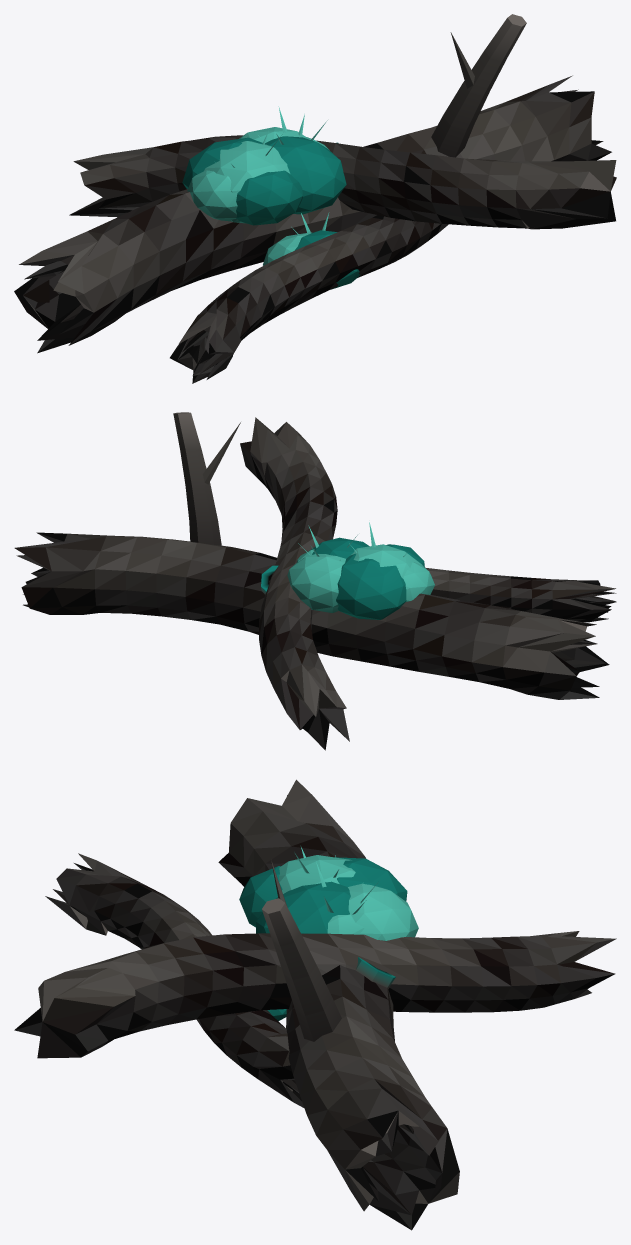
Rendered from pohon_tumbang_logjam_swamp_948032 (2).glb.
The picture shows the model from 3 angles, top to bottom: view 1: azimuth 30°, elevation 25°; view 2: azimuth 150°, elevation 25°; view 3: azimuth 270°, elevation 25°; orthographic projection. The views are drawn at different scales.
Visible parts, largest first — view 1: Tumpukan_Kayu_Hanyut; view 2: Tumpukan_Kayu_Hanyut; view 3: Tumpukan_Kayu_Hanyut.
Part boxes in pixels (x1,y1,x2,y2): Tumpukan_Kayu_Hanyut: (14,14,616,383); Tumpukan_Kayu_Hanyut: (14,412,616,750); Tumpukan_Kayu_Hanyut: (14,779,616,1230).
Bounding box in the file's own units: 7.06 × 2.45 × 4.98.
